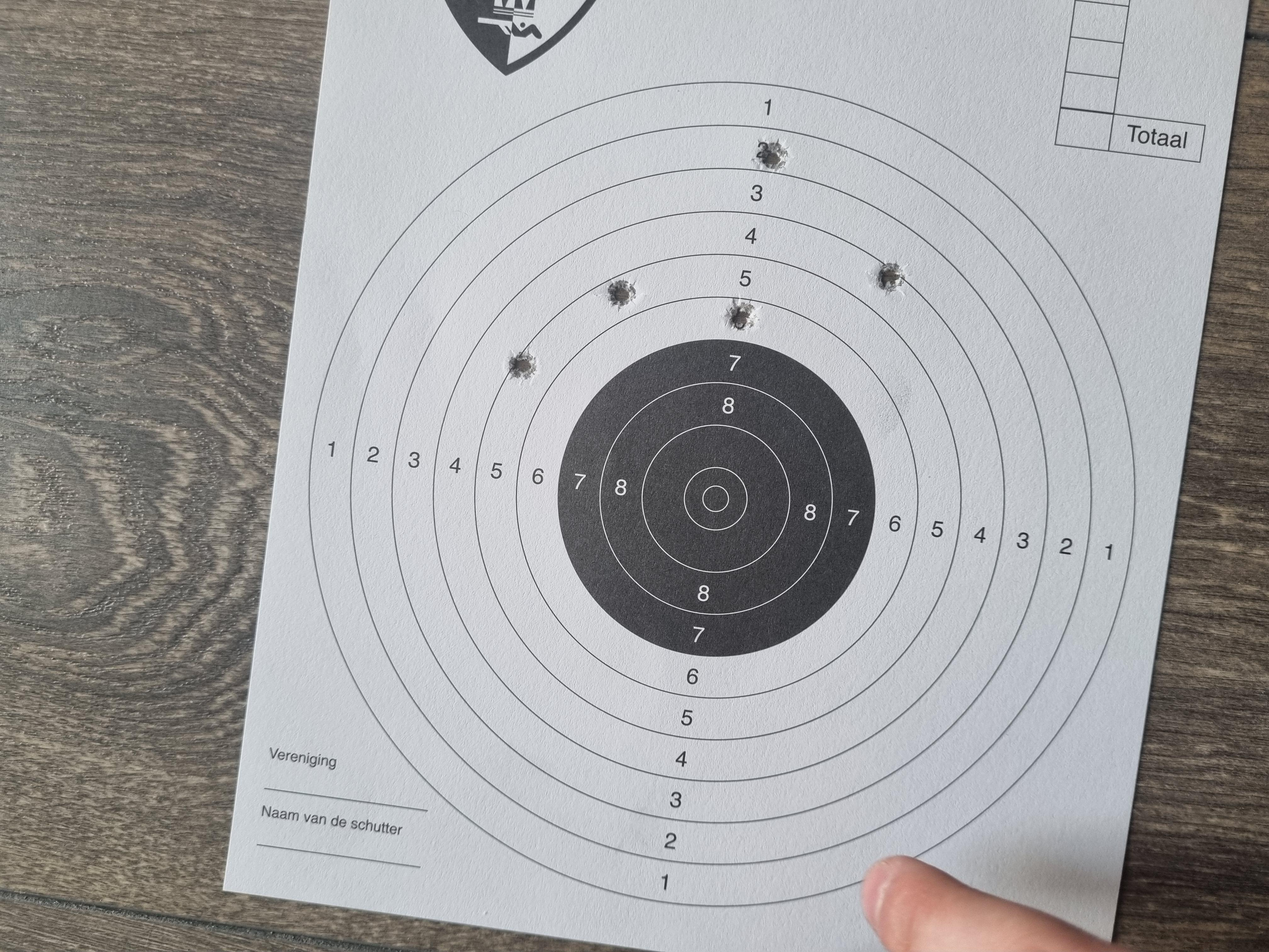hole: (1039, 564, 1087, 590), (878, 654, 925, 680), (855, 453, 904, 476), (760, 381, 809, 404), (827, 544, 872, 568)
